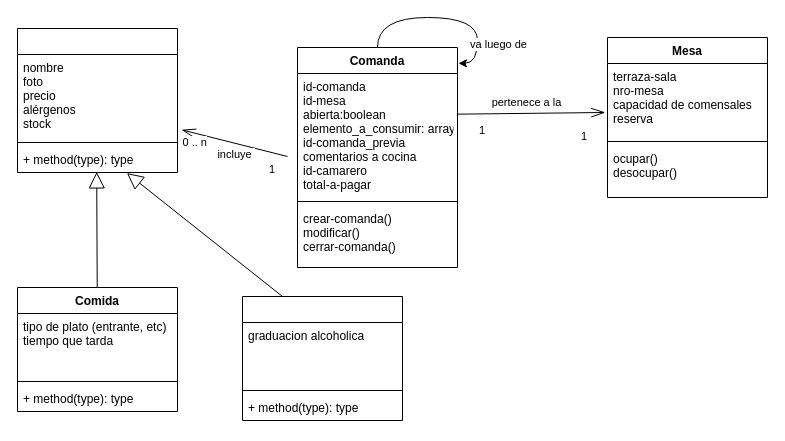
Some shapes in this 785 by 441 pixel diagram are drawn without their labels. The shapes that lost their labels are listed below. From the top down, each one's box as (x1, y1, x2, y2) in pixels, then its label:
(16, 28, 178, 172): Elemento a Consumir
(242, 296, 402, 420): Bebida
